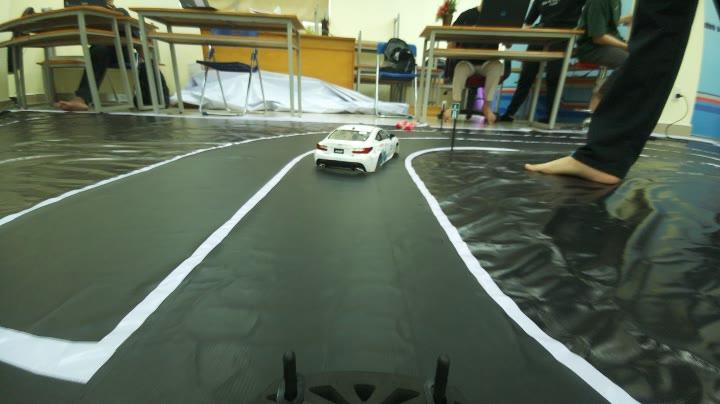car: (320, 119, 394, 183)
